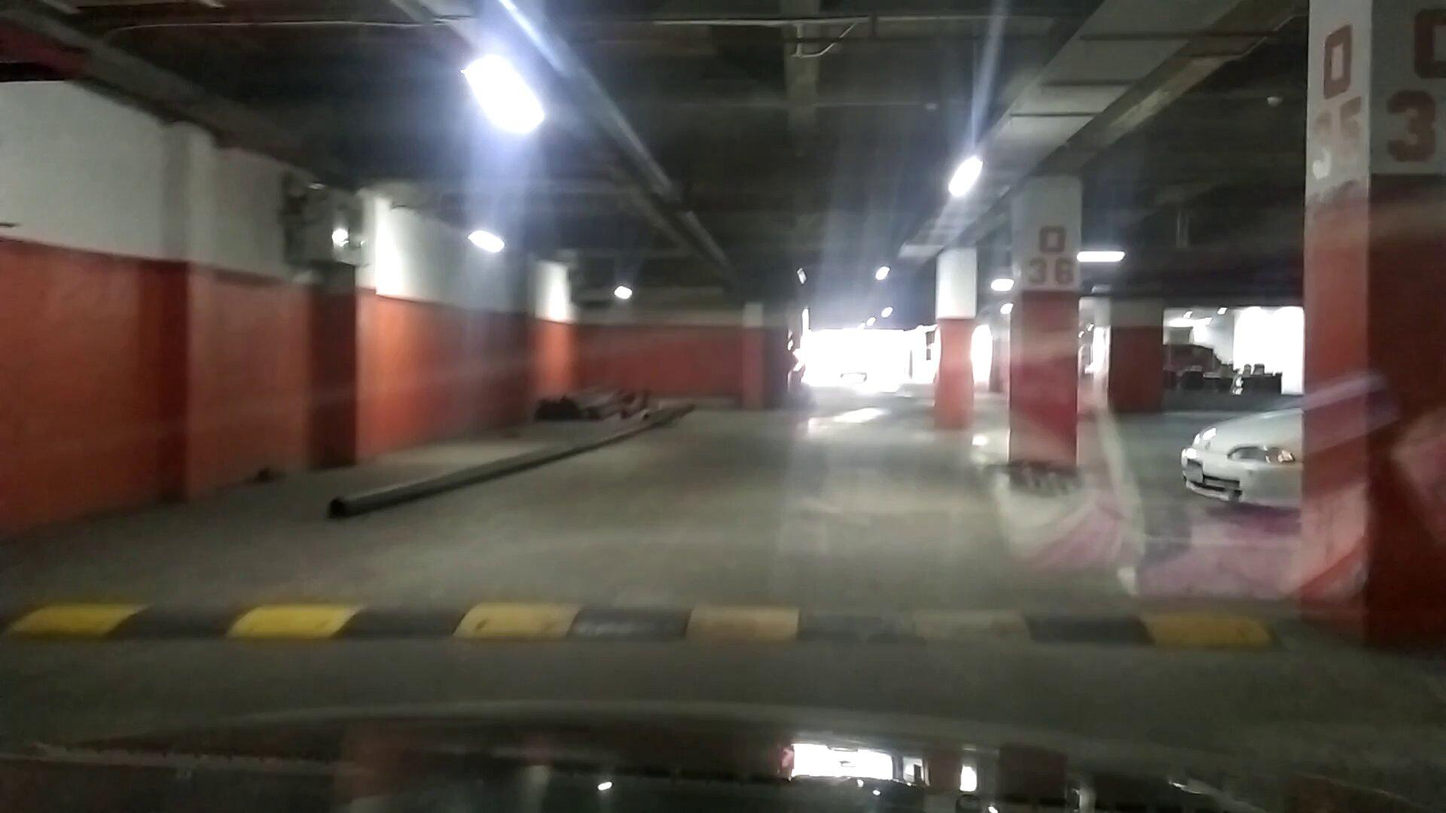Bump: (6, 582, 1297, 661)
